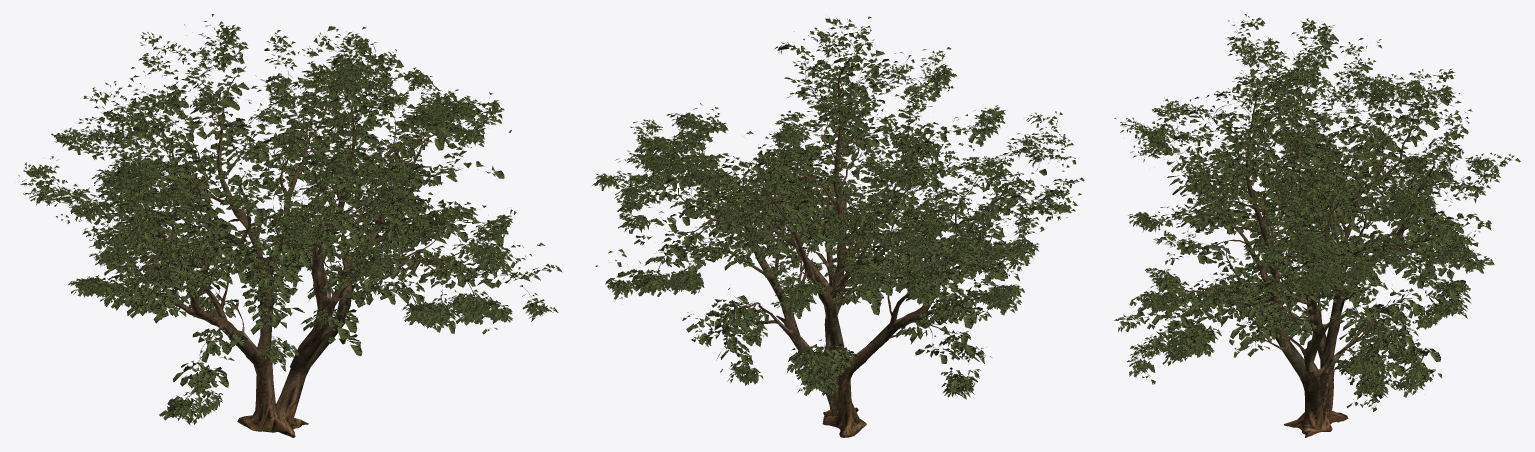
Rendered from tree_low.gltf.
The picture shows the model from 3 angles, left to right: view 1: azimuth 30°, elevation 25°; view 2: azimuth 150°, elevation 25°; view 3: azimuth 270°, elevation 25°; orthographic projection. The views are drawn at different scales.
Parts seen in each view (by area): view 1: jacaranda_tree_LOD0; view 2: jacaranda_tree_LOD0; view 3: jacaranda_tree_LOD0.
Boxes of the visible parts, <box> form: jacaranda_tree_LOD0: <box>18,14,562,437</box>; jacaranda_tree_LOD0: <box>592,16,1084,437</box>; jacaranda_tree_LOD0: <box>1114,14,1520,437</box>.
Size of the model in its own units: 24.16 by 19.33 by 19.05.
3 materials, 3 textured.
